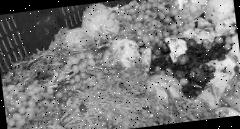organic: (134, 84, 223, 127), (118, 0, 194, 46), (2, 78, 47, 129), (80, 0, 125, 44), (54, 22, 98, 51), (206, 0, 234, 22), (188, 66, 206, 83), (178, 52, 191, 66), (154, 55, 166, 67), (186, 38, 198, 50), (174, 68, 184, 82), (214, 36, 224, 46), (154, 46, 163, 56), (202, 37, 209, 46)
